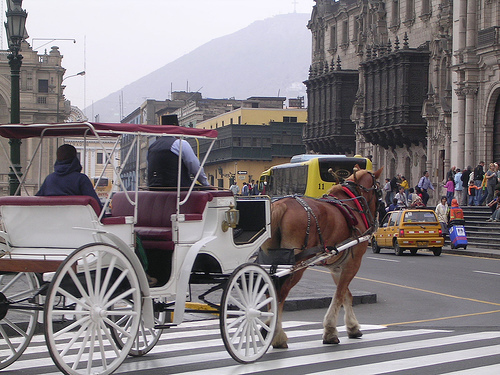horse: (259, 163, 385, 351)
